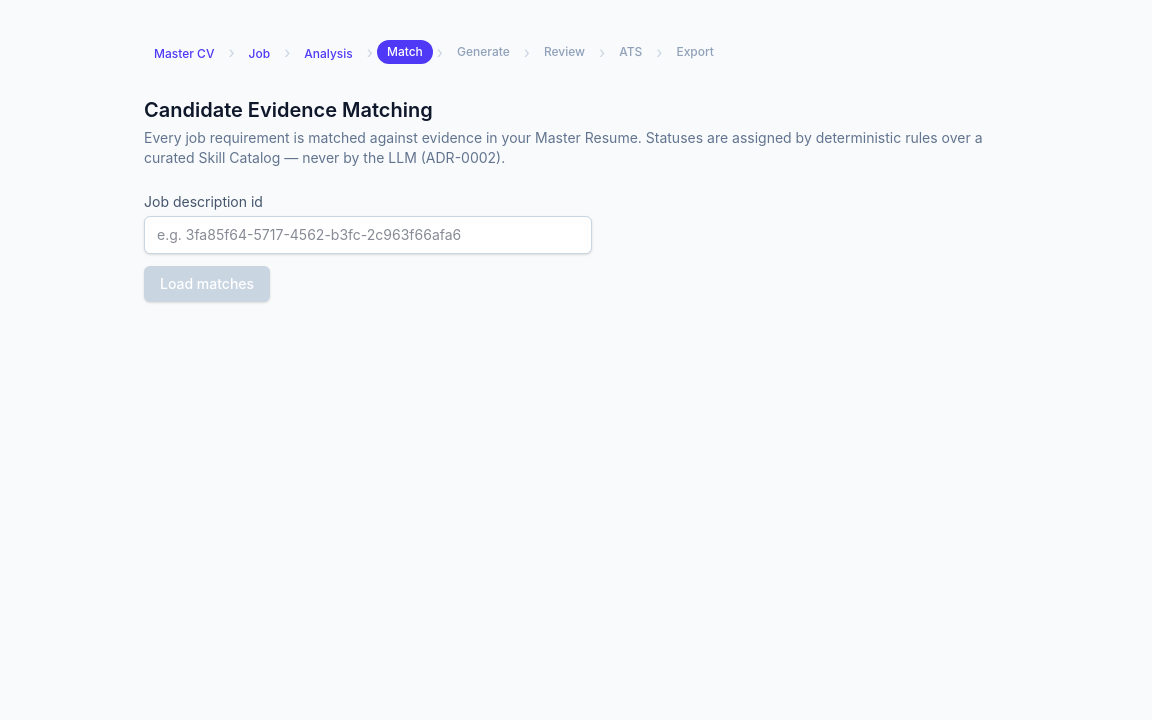
Scenario: MatchPage › loads matches from the form when no jd is in the URL
Type "jd-42" into the field labelled "Job description id".
click(368, 235); type("jd-42")  # box [144,216,592,254]
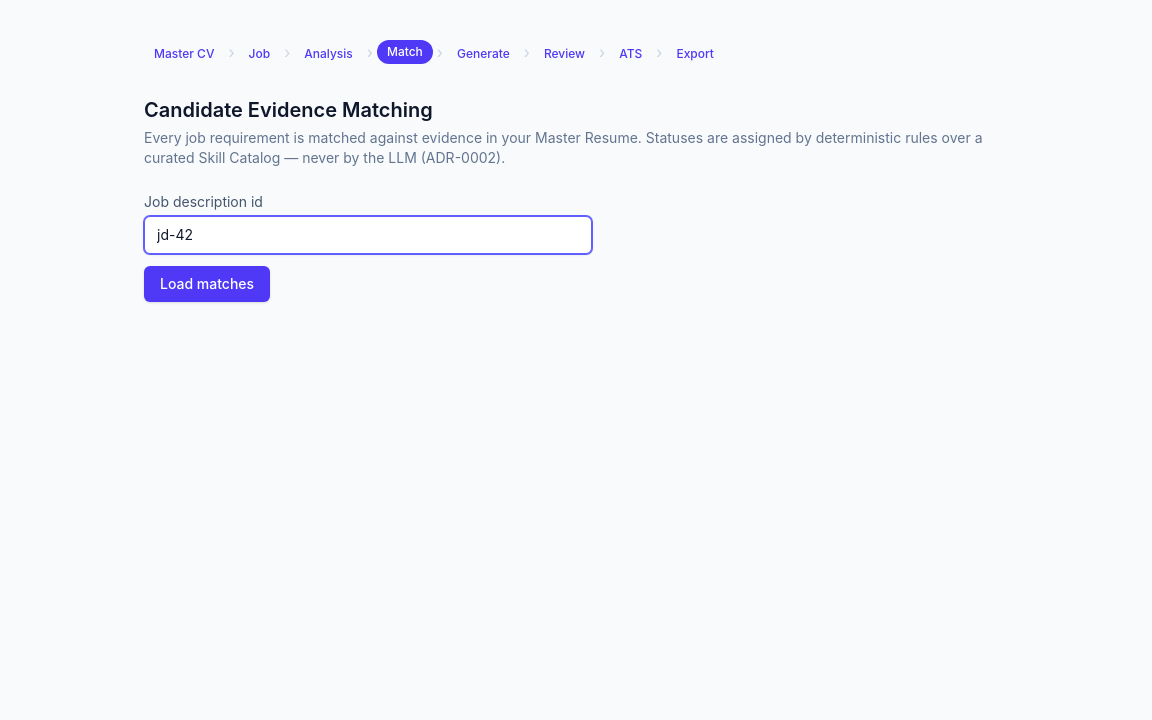
Click the button "Load matches".
click(207, 284)  # box [144,266,270,302]
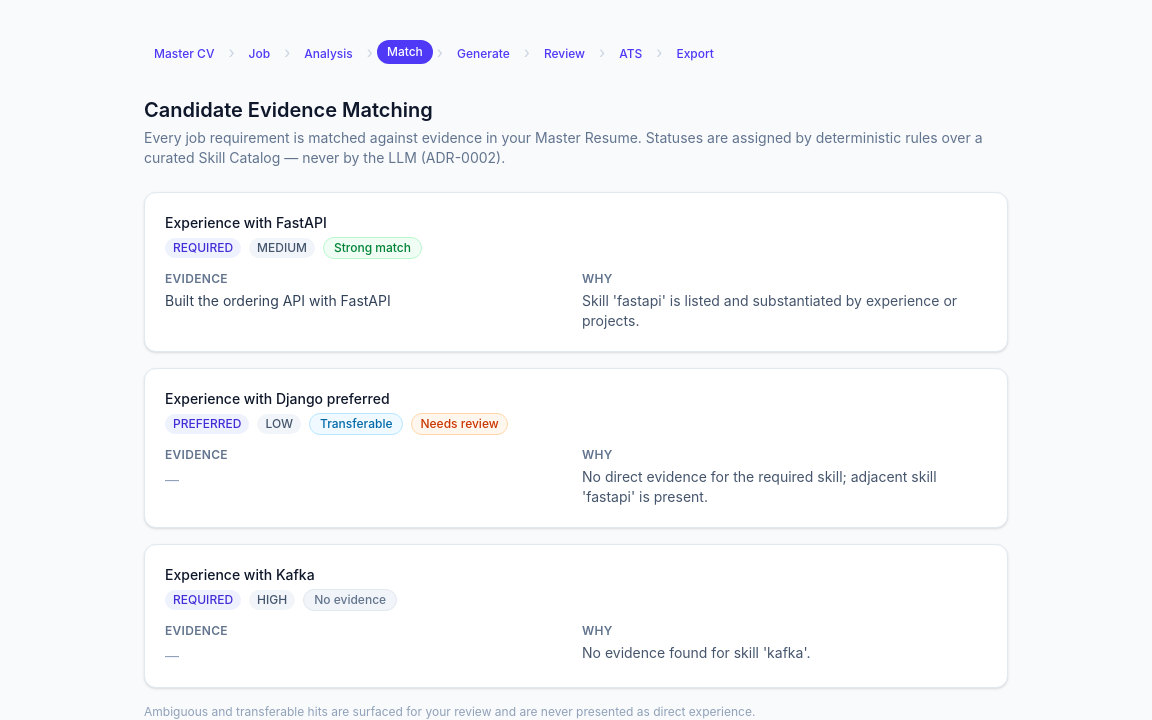
Now the text "Experience with FastAPI" is shown, box [165,214,327,231]
